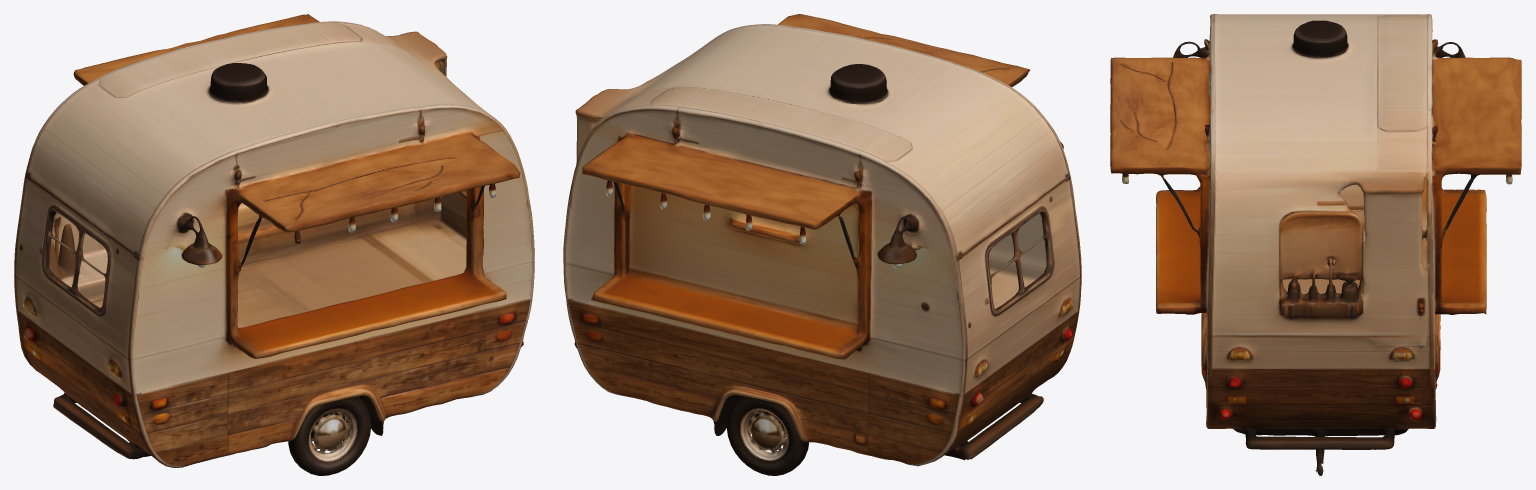
3 views of the same model, side by side, from view 1: azimuth 30°, elevation 25°; view 2: azimuth 150°, elevation 25°; view 3: azimuth 270°, elevation 25° (orthographic). The views are drawn at different scales.
Visible parts, largest first — view 1: tripo_node_7197f43f; view 2: tripo_node_7197f43f; view 3: tripo_node_7197f43f.
Boxes of the visible parts, x1=… form: tripo_node_7197f43f: x1=14, y1=14, x2=534, y2=475; tripo_node_7197f43f: x1=563, y1=14, x2=1081, y2=475; tripo_node_7197f43f: x1=1110, y1=14, x2=1521, y2=475.
Size of the model in its own units: 97.18 by 83.04 by 86.45.
Materials: 1 (1 with a texture image).
